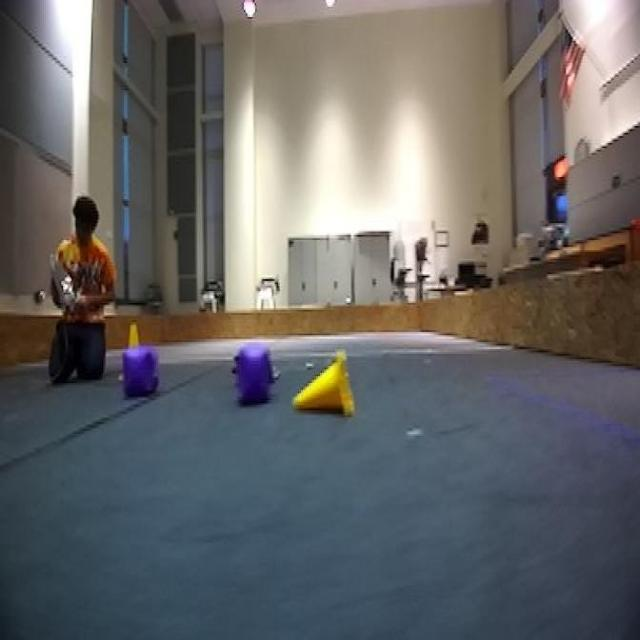frc_cone: (292, 342, 358, 424), (123, 323, 146, 349)
frc_cube: (238, 342, 272, 414), (123, 347, 162, 405)
